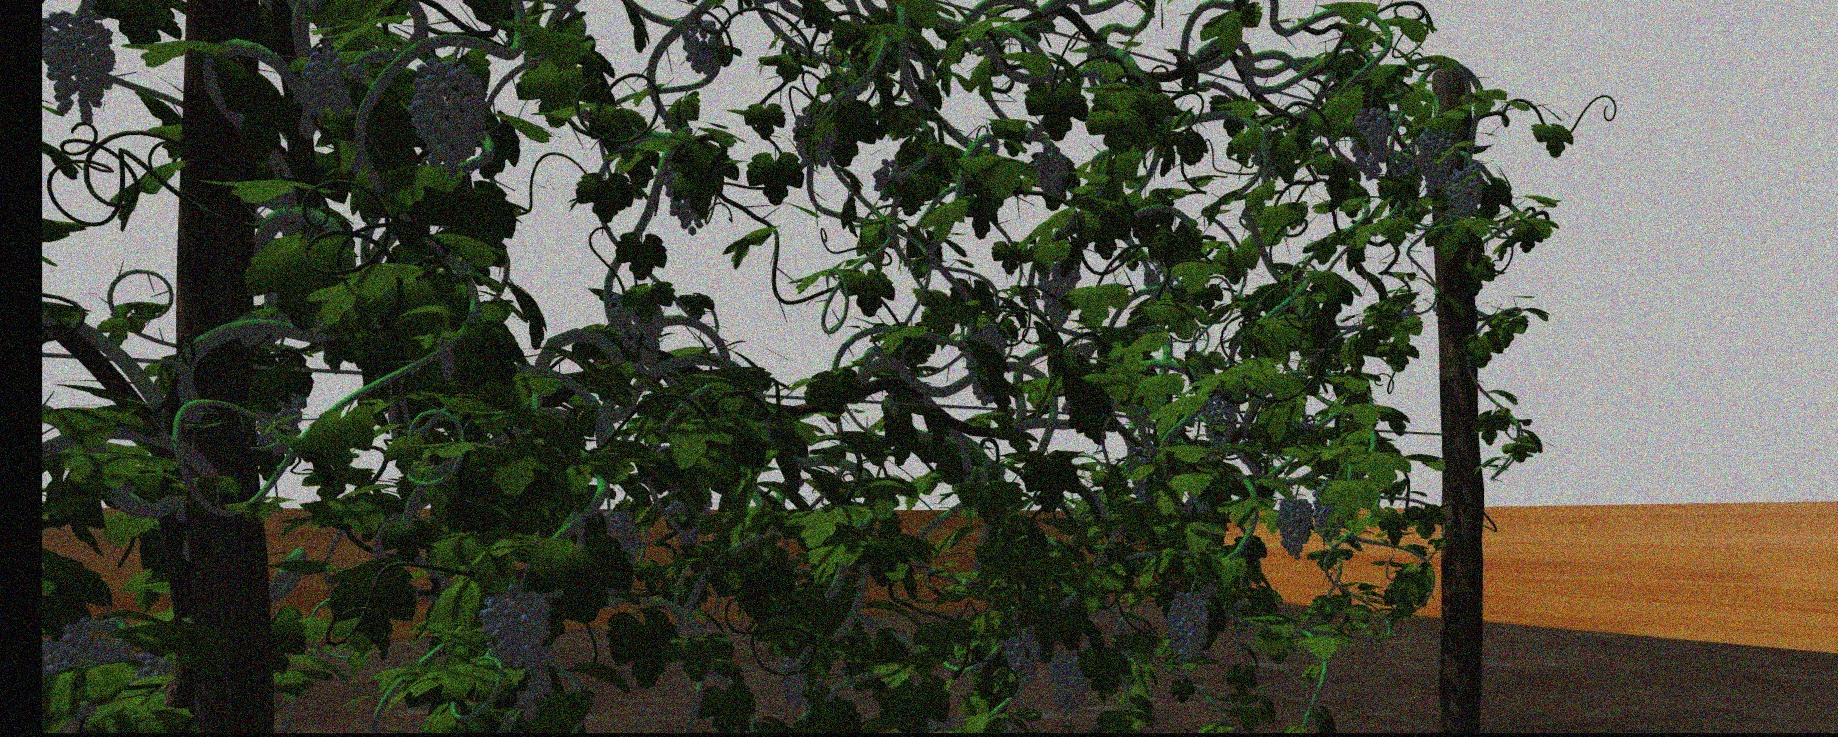grape: (407, 59, 491, 177), (47, 11, 116, 125), (477, 591, 552, 663), (47, 619, 134, 671), (298, 47, 361, 117), (610, 294, 666, 364), (1168, 591, 1210, 673), (1350, 105, 1393, 180), (1039, 257, 1082, 329), (1051, 654, 1094, 717), (1418, 128, 1457, 189), (1277, 497, 1313, 560), (777, 658, 821, 711), (1201, 388, 1240, 444), (685, 25, 727, 75), (1445, 166, 1483, 221), (1033, 142, 1069, 196), (1005, 630, 1042, 680), (1313, 494, 1346, 541), (871, 157, 908, 190)
